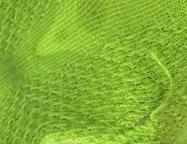snag: (145, 50, 176, 124)
